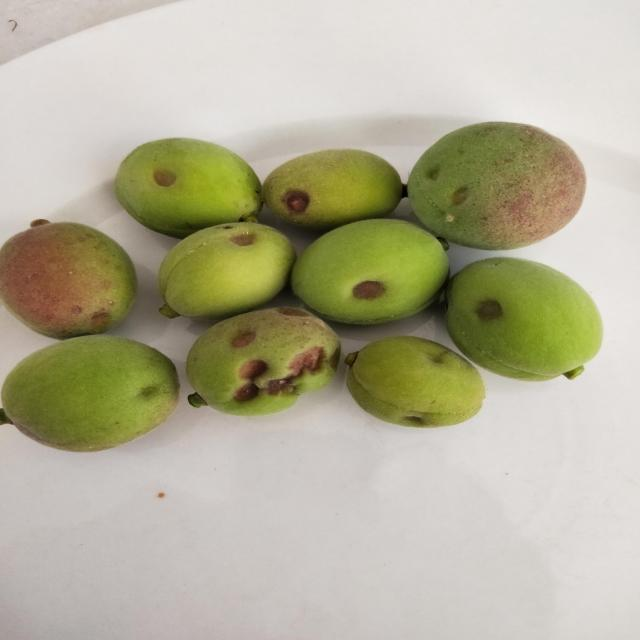Anthracnose: (408, 122, 586, 250), (2, 335, 180, 451), (446, 258, 602, 380), (186, 307, 340, 416), (291, 218, 449, 324), (0, 221, 137, 339), (115, 138, 262, 239), (158, 220, 296, 319), (346, 336, 486, 427), (262, 149, 402, 231)
